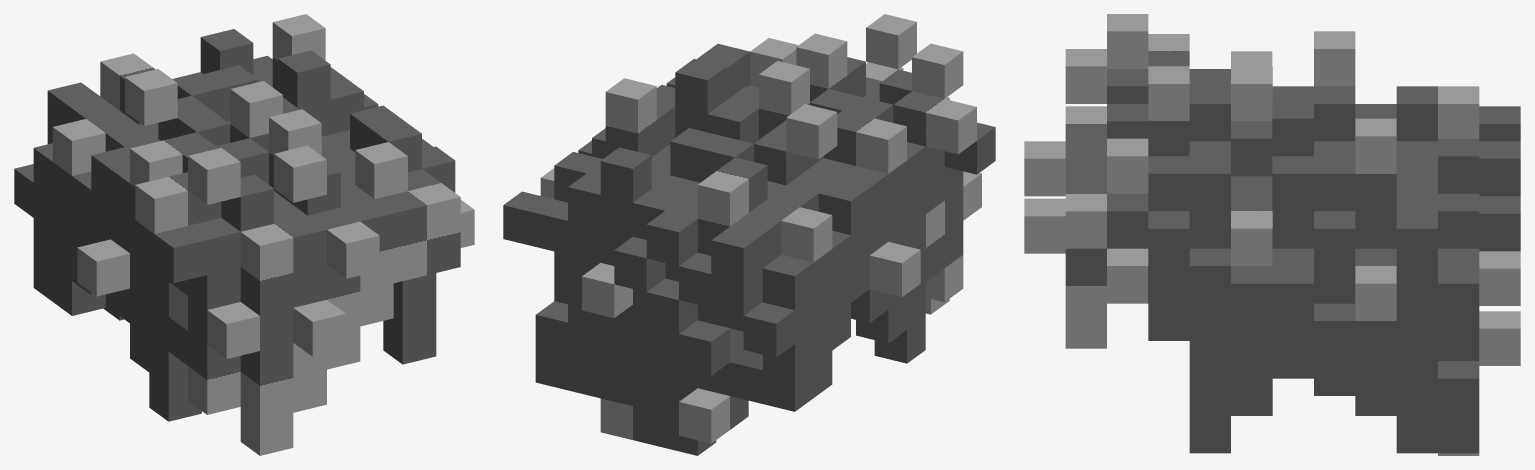
Rendered from wlosy1.dae.
3 views of the same model, side by side, from view 1: azimuth 30°, elevation 25°; view 2: azimuth 150°, elevation 25°; view 3: azimuth 270°, elevation 25° (orthographic). The views are drawn at different scales.
Parts seen in each view (by area): view 1: Content; view 2: Content; view 3: Content.
Part boxes in pixels (left/top/right/bottom): Content: left=14, top=14, right=474, bottom=455; Content: left=503, top=14, right=995, bottom=455; Content: left=1024, top=14, right=1520, bottom=455.
Bounding box in the file's own units: 10 × 9 × 12.
1 material, 1 textured.
